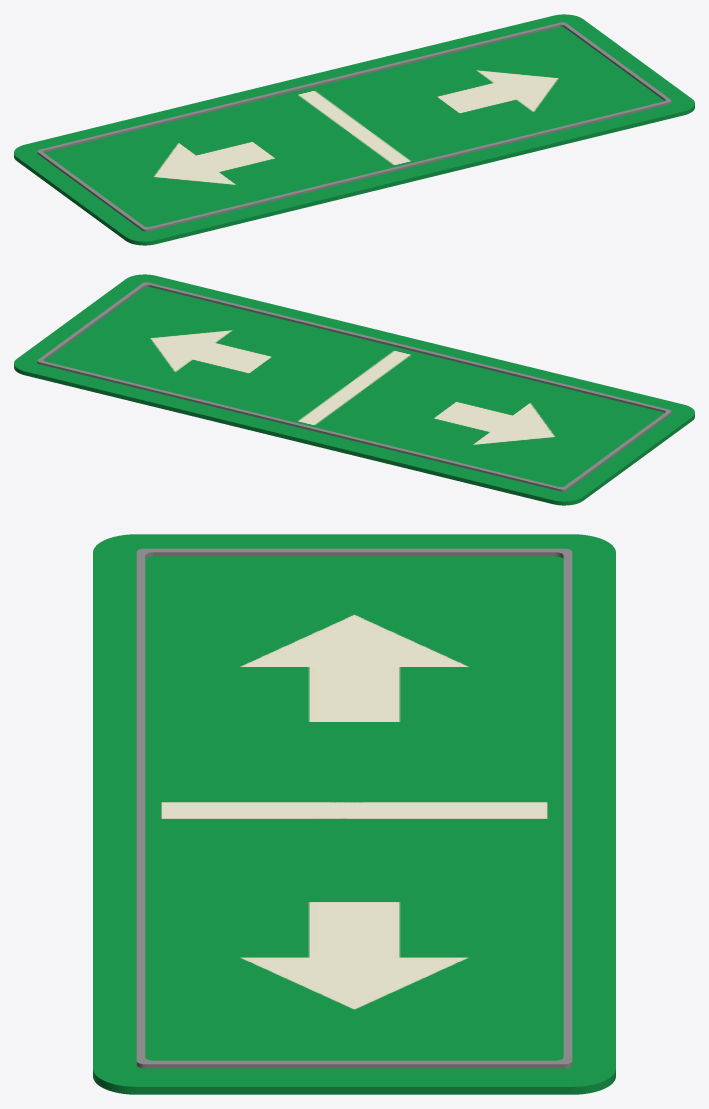
File: Change2.FBX
3 renders of one model, top to bottom at view 1: azimuth 30°, elevation 25°; view 2: azimuth 150°, elevation 25°; view 3: azimuth 270°, elevation 25°, orthographic. The views are drawn at different scales.
Visible parts, largest first — view 1: Layer:0 (×2); view 2: Layer:0 (×2); view 3: Layer:0 (×2).
Boxes of the visible parts, <box> form: Layer:0 (×2): <box>14,14,694,245</box>; Layer:0 (×2): <box>14,274,694,505</box>; Layer:0 (×2): <box>93,534,615,1094</box>.
Size of the model in its own units: 15 by 0.2 by 6.
2 materials, 1 textured.
